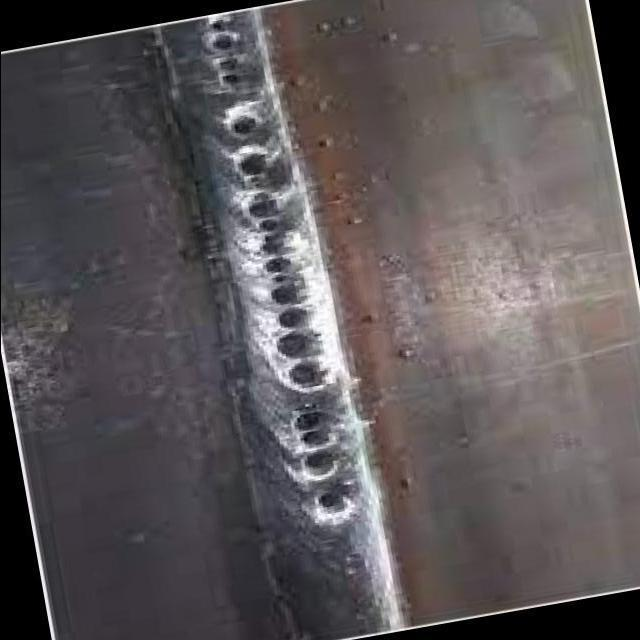defect: (237, 187, 334, 395), (282, 401, 357, 521), (199, 18, 246, 93), (227, 142, 279, 178), (213, 105, 266, 139)
